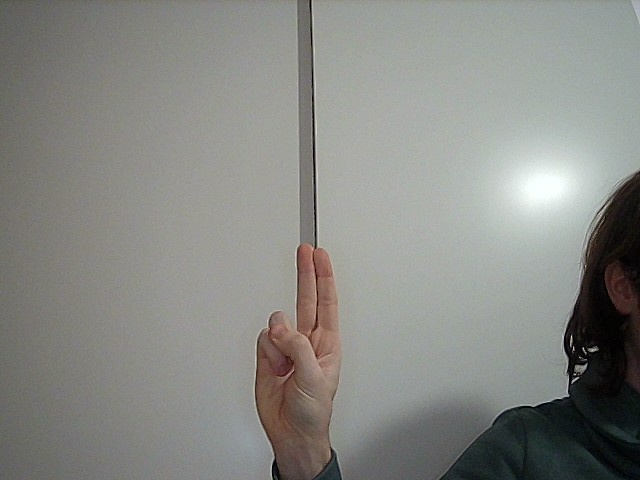u: (248, 242, 355, 437)
